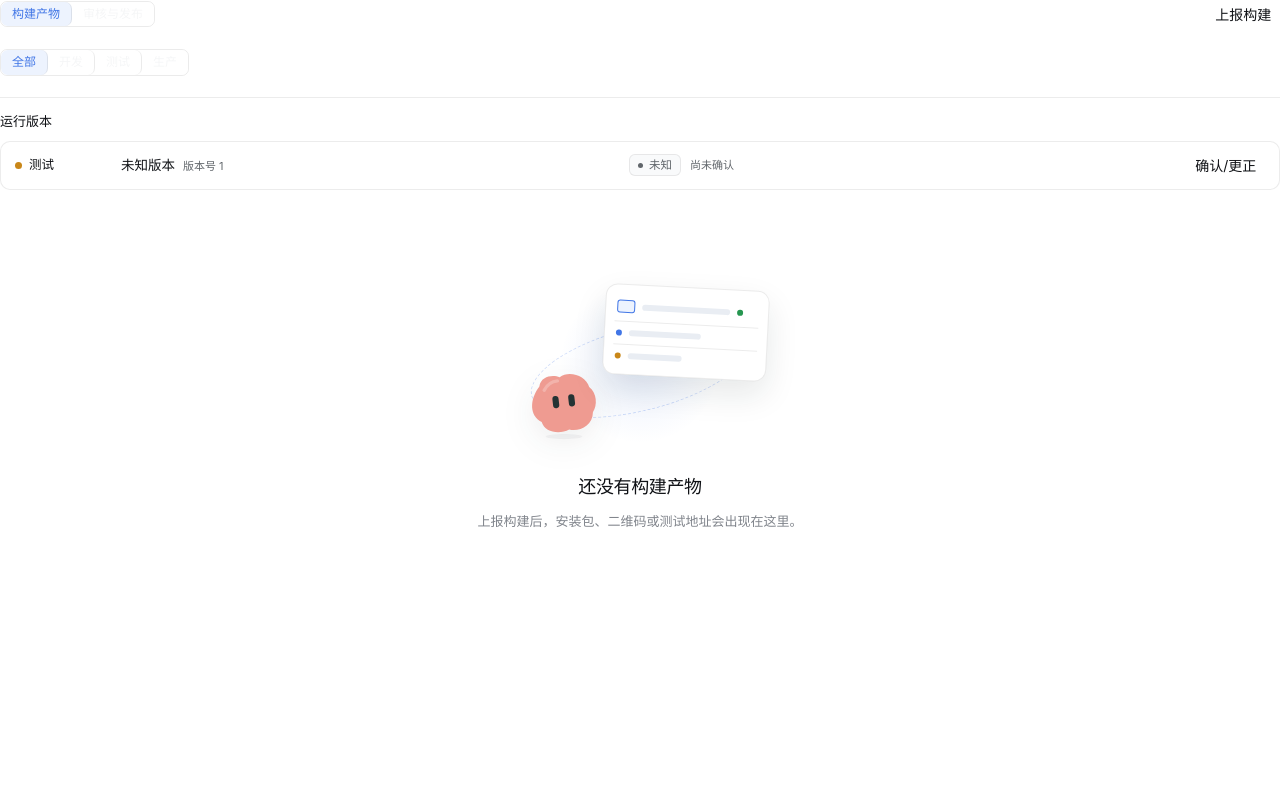
Test case: artifacts-page › 展示三环境运行版本并打开确认弹窗
This screenshot has width=1280, height=800.
Click the button "确认/更正" at (1226,165), box x1=1186 y1=153 x2=1265 y2=178
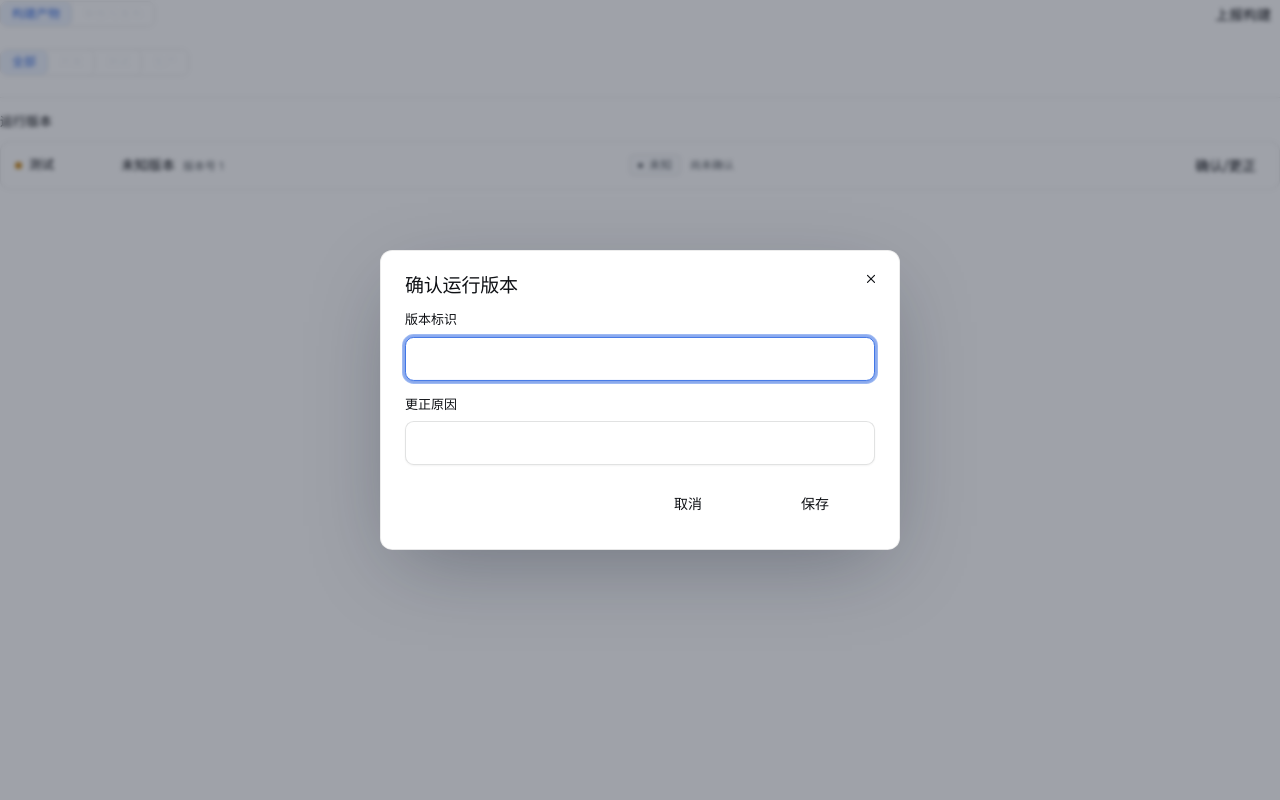
Expected: the heading "确认运行版本" is shown, x1=405 y1=274 x2=518 y2=297
